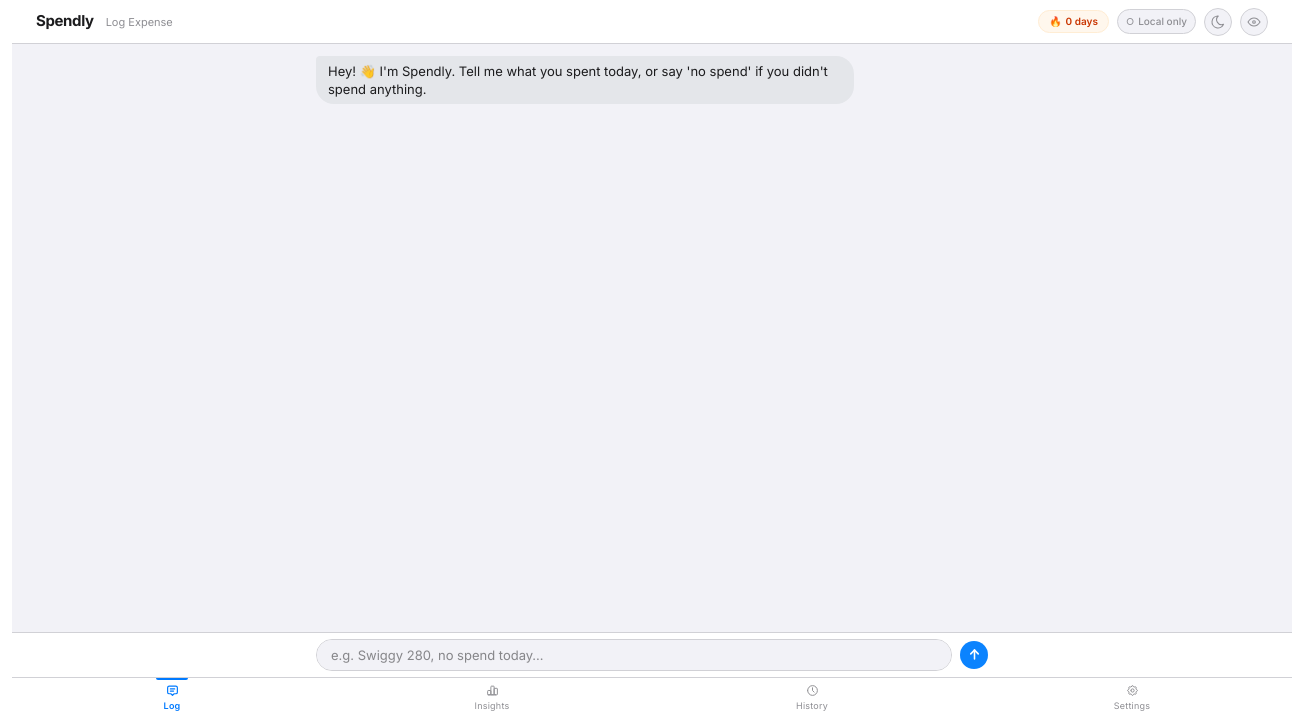
Scenario: Expense Tracker - History Page Flows › should display empty state message when no entries are logged
This screenshot has width=1304, height=720.
Click the button "History".
click(812, 700)  # box [652, 678, 972, 719]
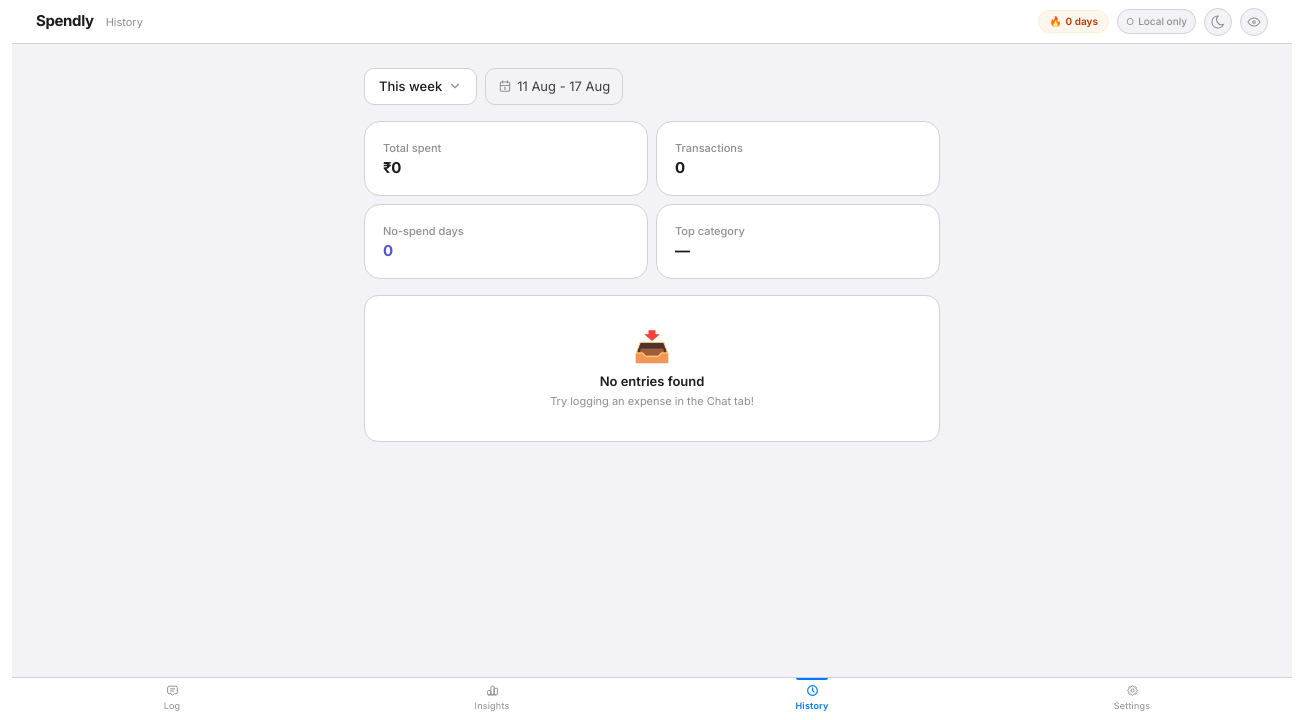
Result: the text "No entries found" is shown at [600, 372, 704, 390]
Result: the text "Try logging an expense in the Chat tab!" is shown at [550, 394, 754, 409]
